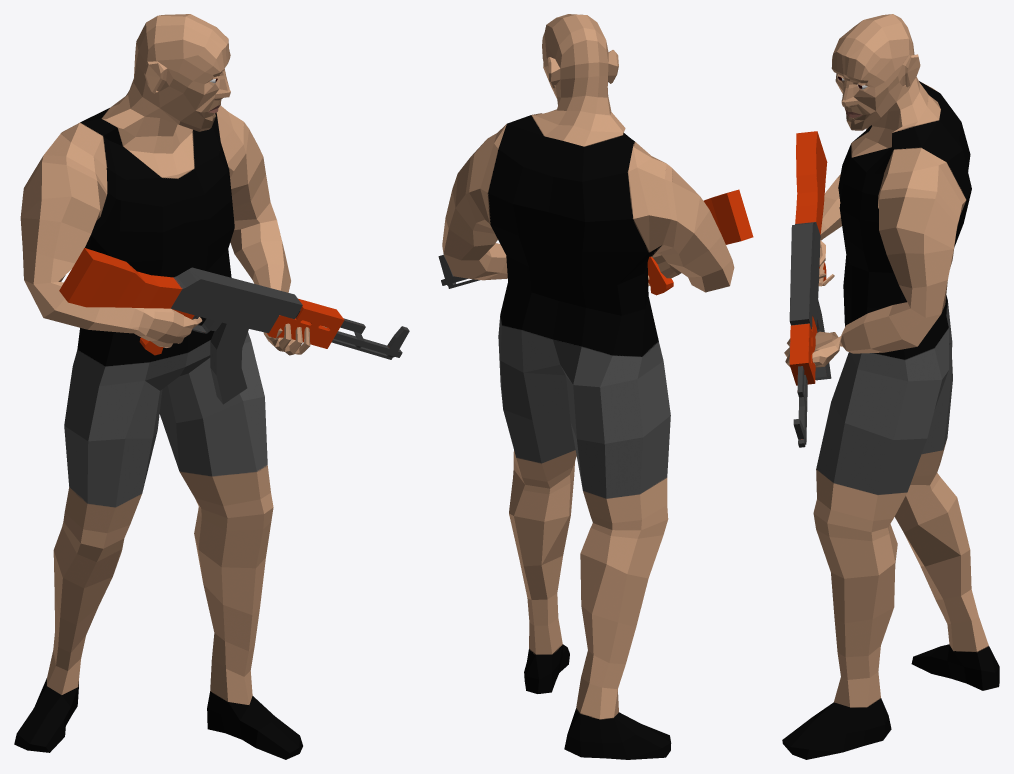
File: PlayerIdle(158).obj
3 views of the same model, side by side, from view 1: azimuth 30°, elevation 25°; view 2: azimuth 150°, elevation 25°; view 3: azimuth 270°, elevation 25° (orthographic). The views are drawn at different scales.
Visible parts, largest first — view 1: Plane002, Object001; view 2: Plane002, Object001; view 3: Plane002, Object001.
Part boxes in pixels (bbox=[...]): Plane002: bbox=[14, 14, 326, 759]; Object001: bbox=[59, 248, 409, 404]; Plane002: bbox=[442, 14, 734, 759]; Object001: bbox=[438, 189, 753, 295]; Plane002: bbox=[782, 14, 999, 759]; Object001: bbox=[789, 131, 831, 447].
Bounding box in the file's own units: 885 × 1792 × 504.
